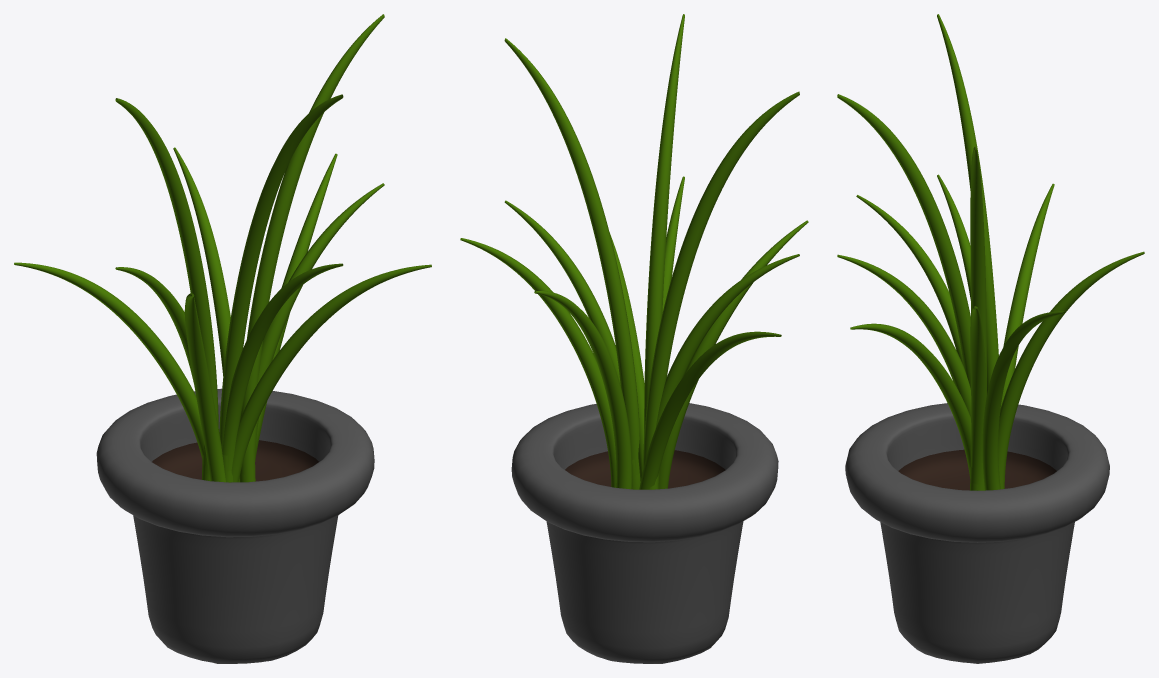
The model's file is Plant02.fbx.
3 views of the same model, side by side, from view 1: azimuth 30°, elevation 25°; view 2: azimuth 150°, elevation 25°; view 3: azimuth 270°, elevation 25° (orthographic). The views are drawn at different scales.
Parts seen in each view (by area): view 1: Vase.007, NurbsPath.041, NurbsPath.043, NurbsPath.042, NurbsPath.035, NurbsPath.039, NurbsPath.038, NurbsPath.040, NurbsPath.033, NurbsPath.034, NurbsPath.036, NurbsPath.037; view 2: Vase.007, NurbsPath.041, NurbsPath.042, NurbsPath.043, NurbsPath.036, NurbsPath.034, NurbsPath.039, NurbsPath.037, NurbsPath.040, NurbsPath.033, NurbsPath.035, NurbsPath.038; view 3: Vase.007, NurbsPath.043, NurbsPath.034, NurbsPath.042, NurbsPath.036, NurbsPath.041, NurbsPath.038, NurbsPath.035, NurbsPath.033, NurbsPath.039, NurbsPath.040, NurbsPath.037.
Boxes of the visible parts, x1,y1,x2,y2 form: Vase.007: (96,388,374,663); NurbsPath.041: (240,14,384,482); NurbsPath.043: (219,94,343,482); NurbsPath.042: (115,98,218,481); NurbsPath.035: (231,264,431,482); NurbsPath.039: (14,262,204,458); NurbsPath.038: (222,263,343,471); NurbsPath.040: (184,293,225,482); NurbsPath.033: (239,183,384,482); NurbsPath.034: (173,147,239,481); NurbsPath.036: (255,153,337,458); NurbsPath.037: (115,267,209,474); Vase.007: (511,403,778,663); NurbsPath.041: (504,38,639,474); NurbsPath.042: (642,91,799,489); NurbsPath.043: (644,14,684,437); NurbsPath.036: (460,238,616,487); NurbsPath.034: (534,291,632,489); NurbsPath.039: (639,331,781,489); NurbsPath.037: (655,254,799,486); NurbsPath.040: (658,220,808,489); NurbsPath.033: (504,200,640,489); NurbsPath.035: (610,234,644,481); NurbsPath.038: (662,176,684,313); Vase.007: (845,403,1109,663); NurbsPath.043: (837,94,970,389); NurbsPath.034: (998,251,1144,489); NurbsPath.042: (937,14,1001,407); NurbsPath.036: (982,311,1064,490); NurbsPath.041: (970,147,986,490); NurbsPath.038: (837,254,971,417); NurbsPath.035: (850,323,971,478); NurbsPath.033: (970,306,986,490); NurbsPath.039: (1001,183,1054,405); NurbsPath.040: (856,195,963,366); NurbsPath.037: (937,174,970,300).
Size of the model in its own units: 152 by 262 by 130.
